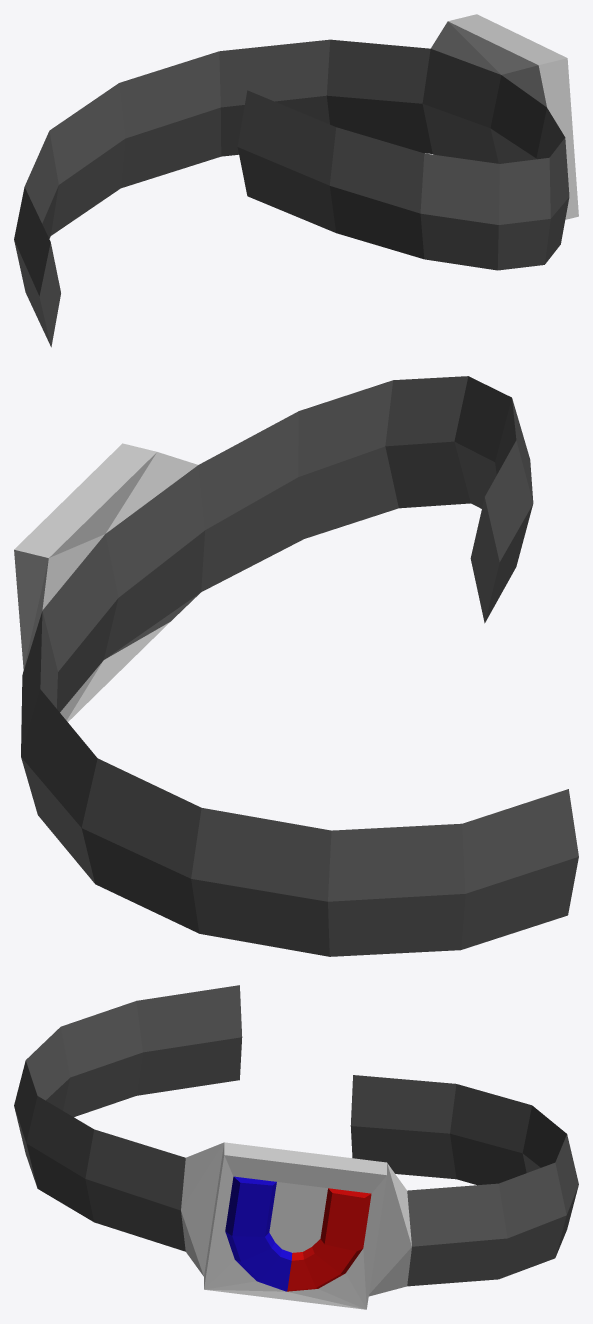
File: magnet_belt.fbx
3 renders of one model, top to bottom at view 1: azimuth 30°, elevation 25°; view 2: azimuth 150°, elevation 25°; view 3: azimuth 270°, elevation 25°, orthographic. The views are drawn at different scales.
Parts seen in each view (by area): view 1: magnet_belt; view 2: magnet_belt; view 3: magnet_belt.
Part boxes in pixels (<box>): magnet_belt: <box>14,14,578,347</box>; magnet_belt: <box>14,376,578,956</box>; magnet_belt: <box>14,985,578,1309</box>.
Bounding box in the file's own units: 199 × 111 × 234.
